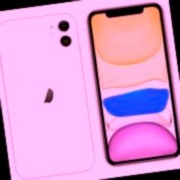iphone: (89, 1, 180, 166), (2, 8, 90, 171)
